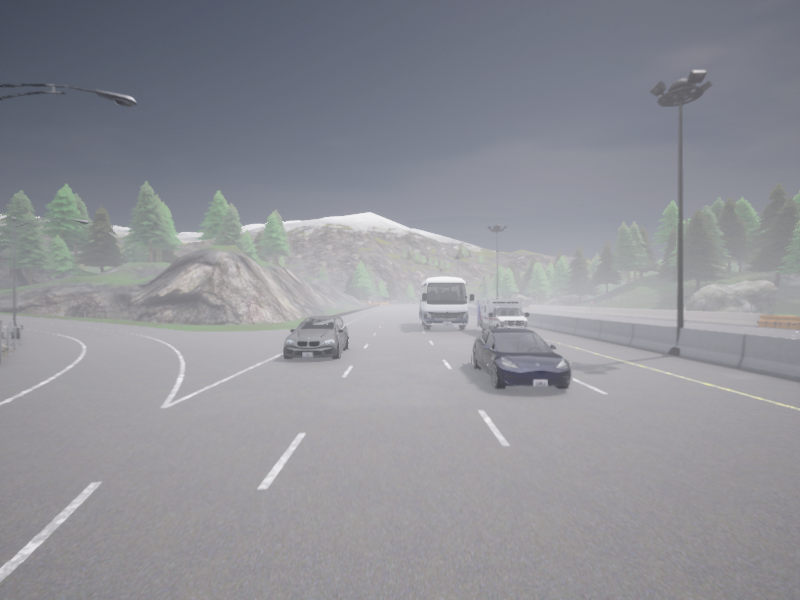vehicle: (472, 328, 570, 388), (419, 277, 473, 330), (283, 316, 349, 359), (477, 299, 528, 332), (470, 300, 475, 303)
